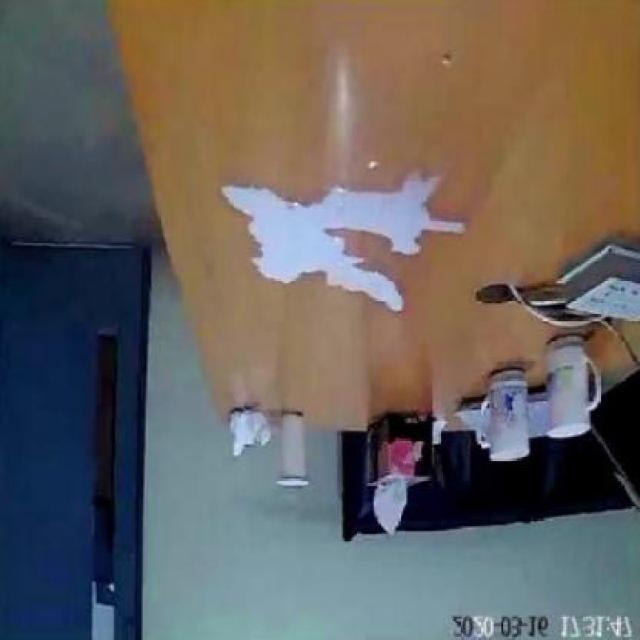spillage: (221, 173, 443, 311)
